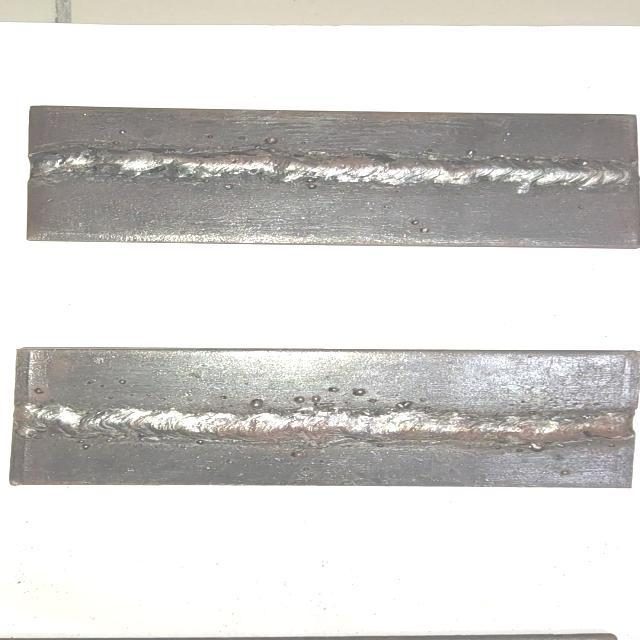Defect: (242, 382, 424, 410)
Welding Line: (20, 405, 634, 445), (37, 151, 640, 185)
Workpiece: (27, 102, 640, 250), (9, 345, 639, 489)
